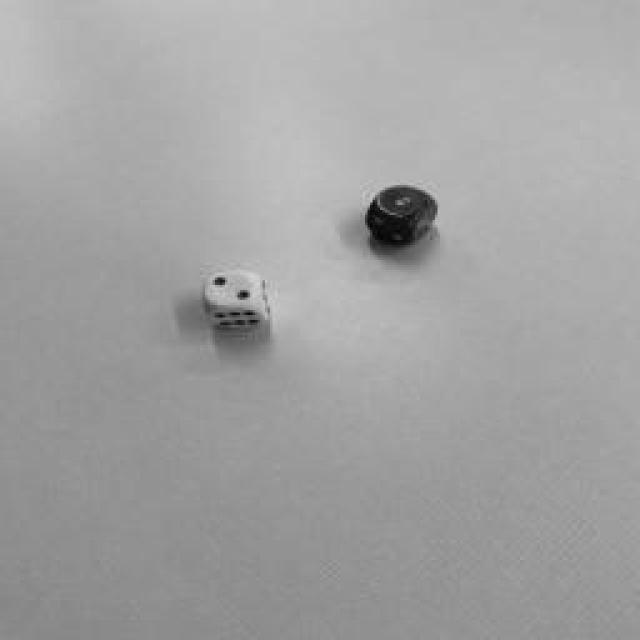dice_1: (375, 186, 430, 219)
dice_2: (202, 271, 258, 309)
